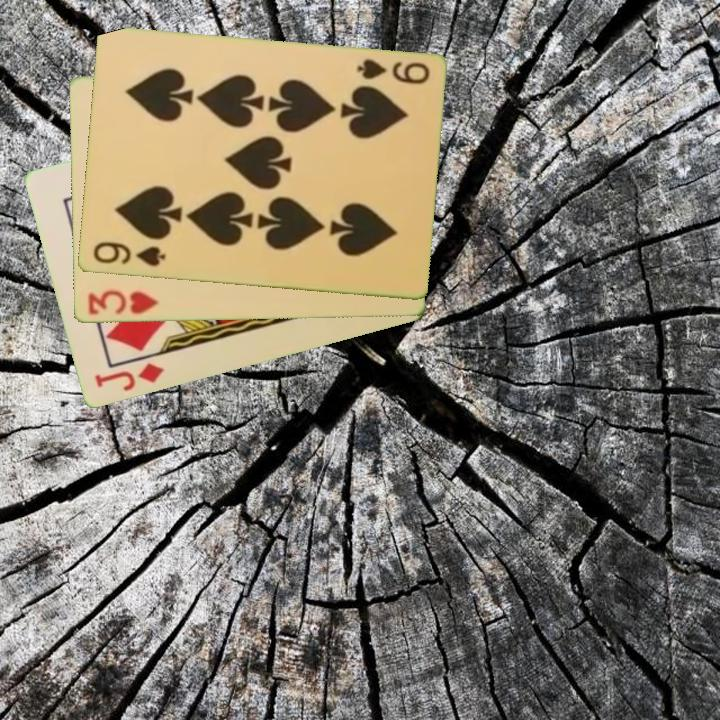3h: (84, 287, 160, 318)
9s: (352, 56, 432, 88), (89, 238, 168, 270)
Jd: (91, 360, 167, 395)
